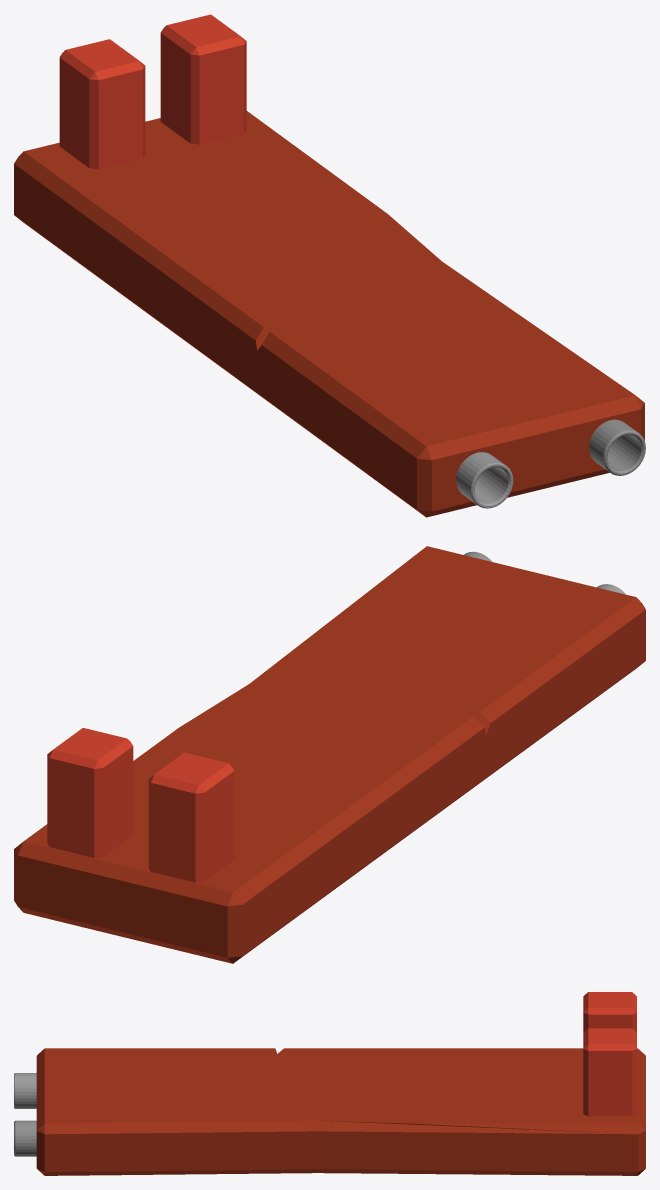
File: LavaSpitterHead.fbx
3 renders of one model, top to bottom at view 1: azimuth 30°, elevation 25°; view 2: azimuth 150°, elevation 25°; view 3: azimuth 270°, elevation 25°, orthographic. The views are drawn at different scales.
Parts seen in each view (by area): view 1: Head; view 2: Head; view 3: Head.
Part boxes in pixels (<box>): Head: <box>14,14,645,517</box>; Head: <box>14,546,645,963</box>; Head: <box>14,992,645,1175</box>.
Size of the model in its own units: 0.7061 by 2.3 by 0.4918.
